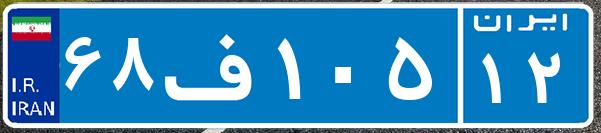0: (330, 28, 385, 110)
1: (273, 28, 330, 110), (475, 38, 525, 113)
2: (525, 38, 570, 115)
5: (385, 28, 445, 110)
6: (57, 26, 110, 107)
8: (110, 28, 158, 105)
ف: (158, 15, 273, 115)
